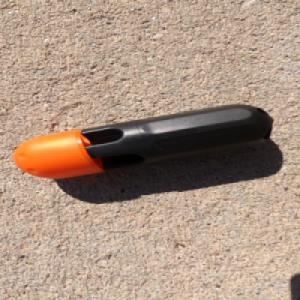PlasticPart: (11, 103, 276, 180)
